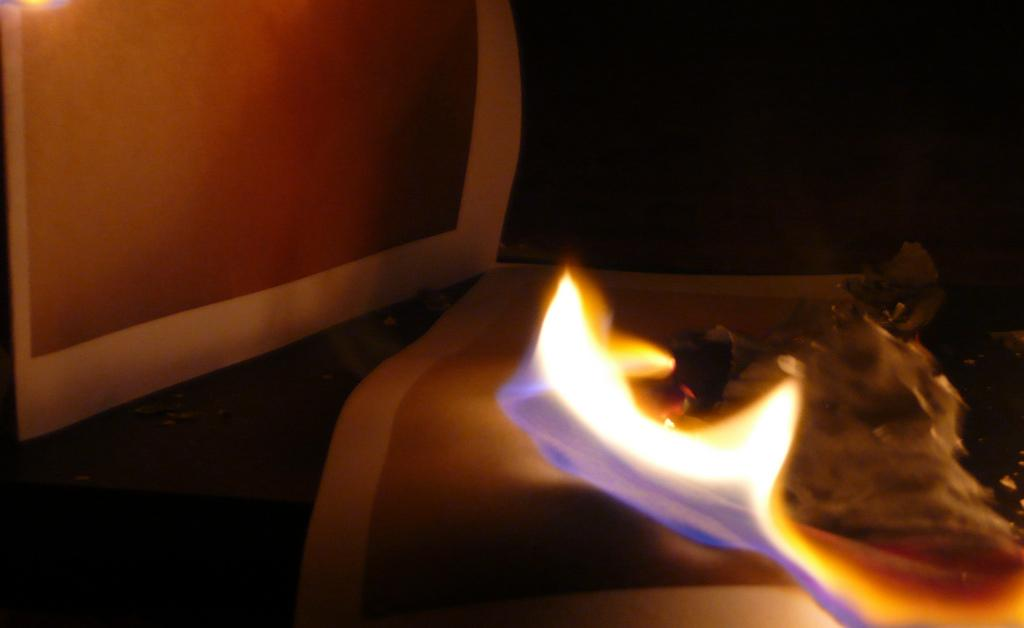fire: (632, 415, 790, 538), (528, 338, 608, 453)
